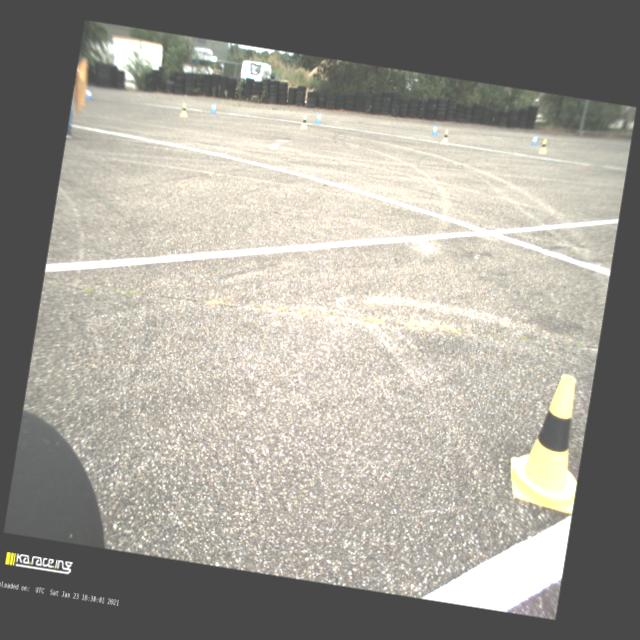blue_cone: (210, 102, 218, 114), (86, 88, 94, 100), (531, 134, 538, 146), (316, 112, 322, 124), (432, 124, 438, 136)
yellow_cone: (504, 368, 594, 514), (180, 102, 190, 118), (300, 114, 310, 129), (440, 130, 450, 144), (539, 139, 548, 154)
